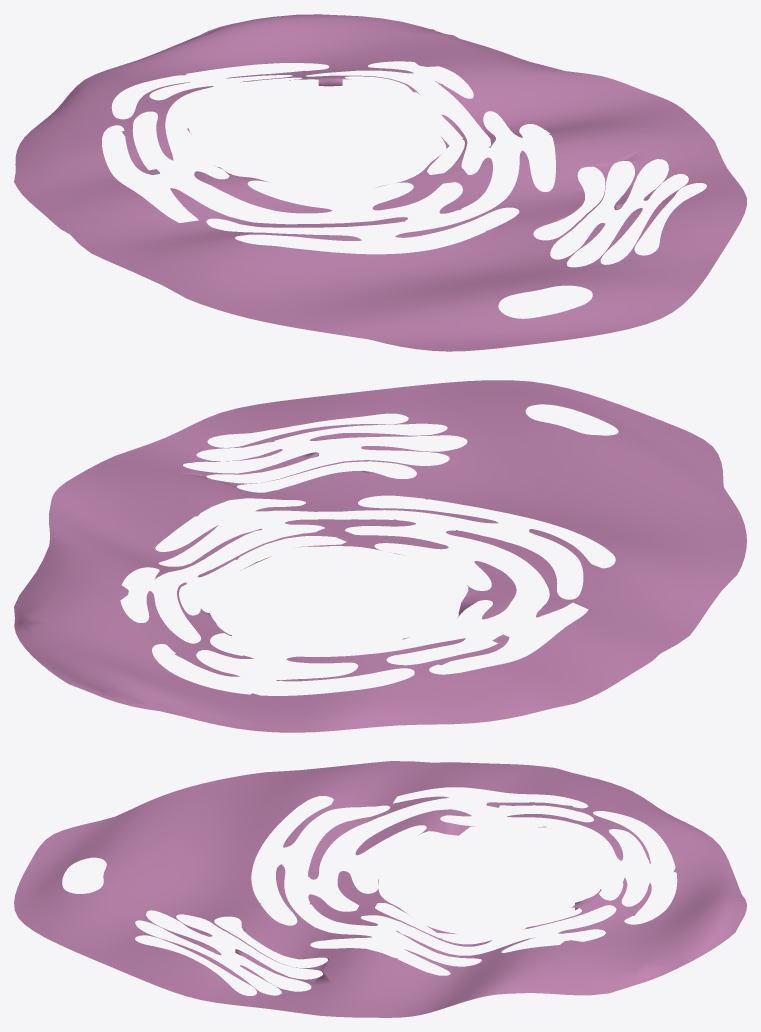
Rendered from cytoplasm.gltf.
3 renders of one model, top to bottom at view 1: azimuth 30°, elevation 25°; view 2: azimuth 150°, elevation 25°; view 3: azimuth 270°, elevation 25°, orthographic. The views are drawn at different scales.
Parts seen in each view (by area): view 1: Sphere.001; view 2: Sphere.001; view 3: Sphere.001.
Part boxes in pixels (x1,y1,x2,y2): Sphere.001: (14, 14, 746, 351); Sphere.001: (14, 380, 746, 732); Sphere.001: (14, 761, 746, 1017).
Size of the model in its own units: 5.77 by 0.2613 by 6.96.
